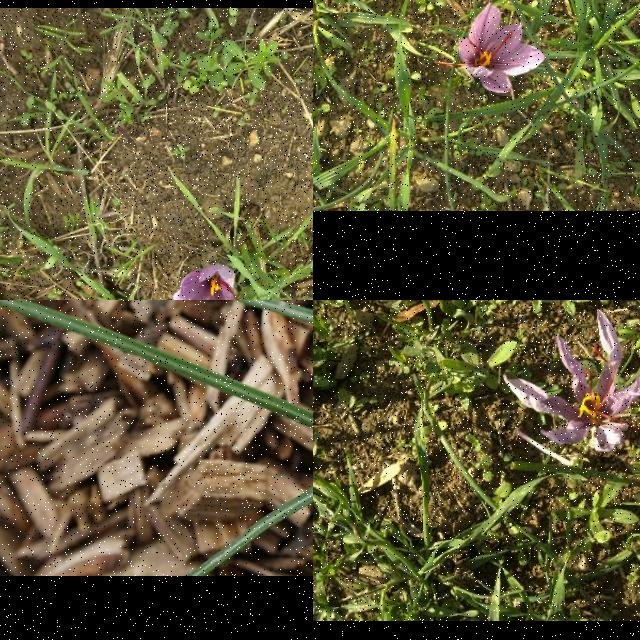flower: (503, 310, 640, 452), (436, 4, 544, 94), (174, 264, 251, 300)
